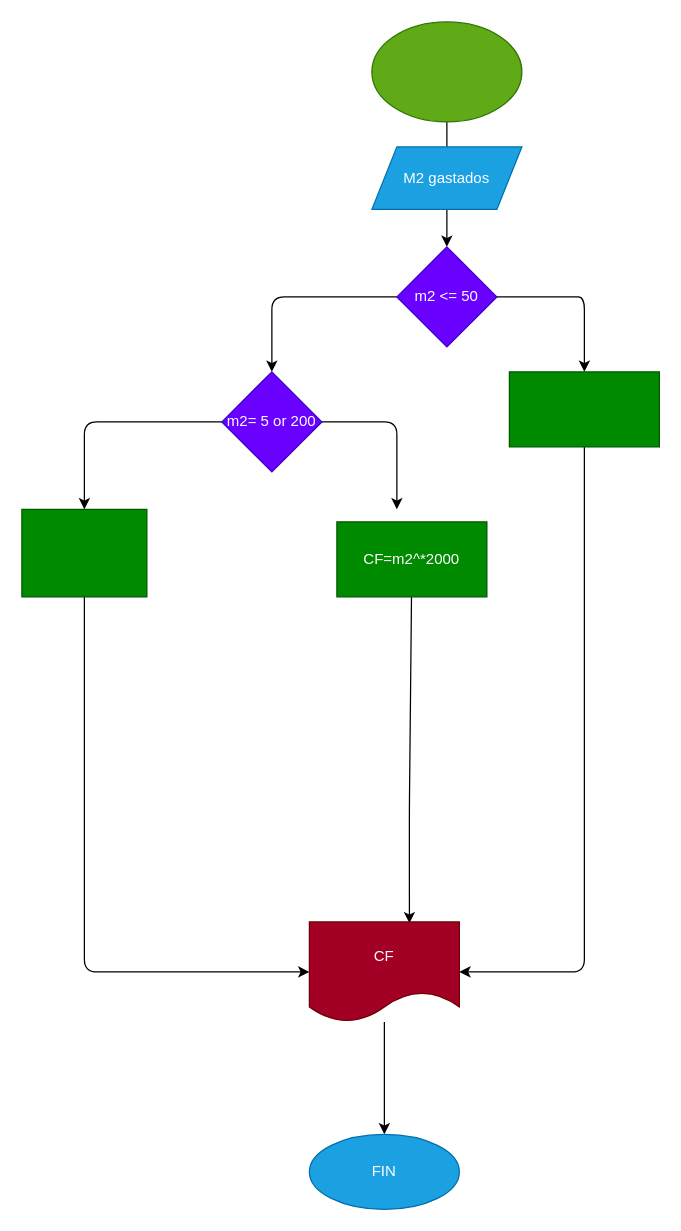
Image size: 681x1231. Some labels were removed from this diagram. The shapes that lost their labels are listed below. From the top down, each one's box as (x1, y1, x2, y2) in pixels, then its label:
(371, 21, 522, 122): INICIO
(508, 371, 659, 447): CF=10000
(21, 508, 147, 597): CF=m2^*3000
